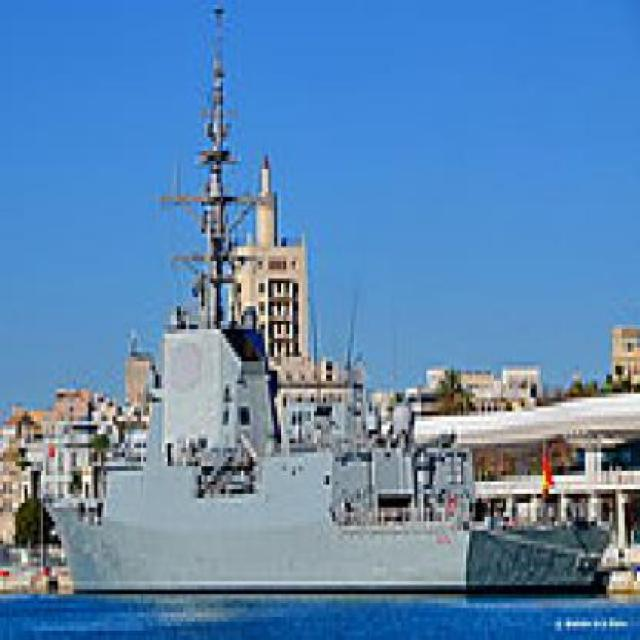warship2: (24, 1, 612, 587)
